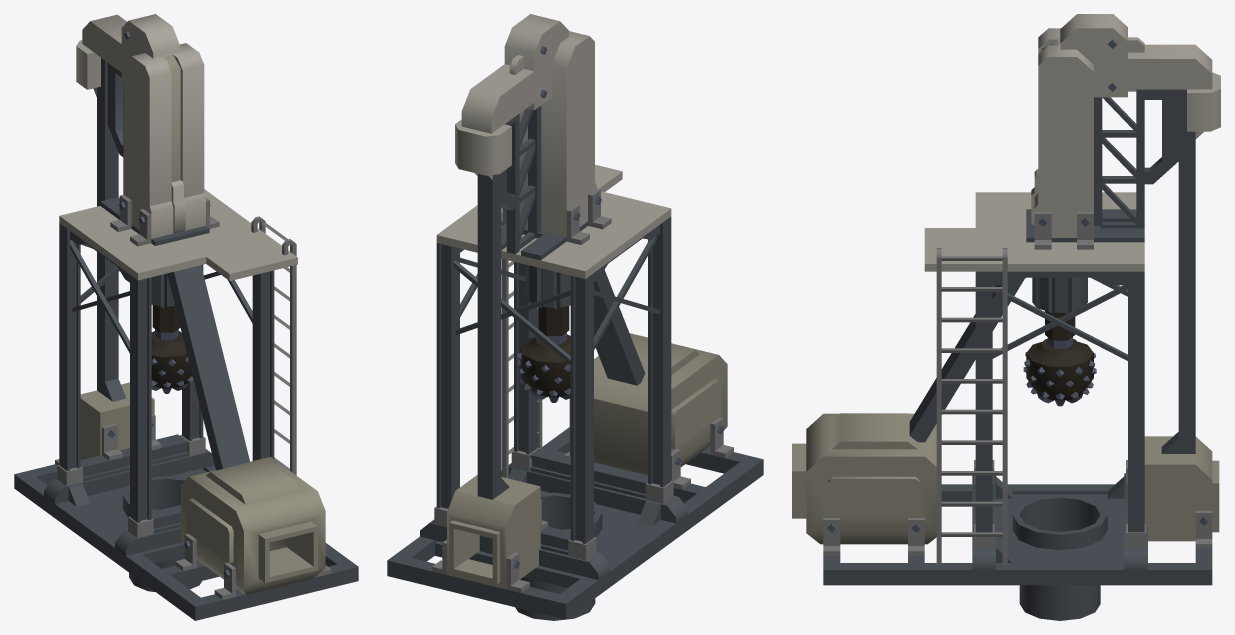
File: drilling_station_1.fbx
3 views of the same model, side by side, from view 1: azimuth 30°, elevation 25°; view 2: azimuth 150°, elevation 25°; view 3: azimuth 270°, elevation 25° (orthographic). The views are drawn at different scales.
Parts seen in each view (by area): view 1: drilling_station_1, drill_1; view 2: drilling_station_1, drill_1; view 3: drilling_station_1, drill_1.
Boxes of the visible parts, left/top/right/bottom form: drilling_station_1: left=14, top=14, right=358, bottom=620; drill_1: left=151, top=273, right=193, bottom=393; drilling_station_1: left=387, top=14, right=763, bottom=620; drill_1: left=517, top=264, right=570, bottom=402; drilling_station_1: left=792, top=14, right=1220, bottom=620; drill_1: left=1023, top=277, right=1096, bottom=406.
Bounding box in the file's own units: 7.2 × 22.8 × 15.21.
